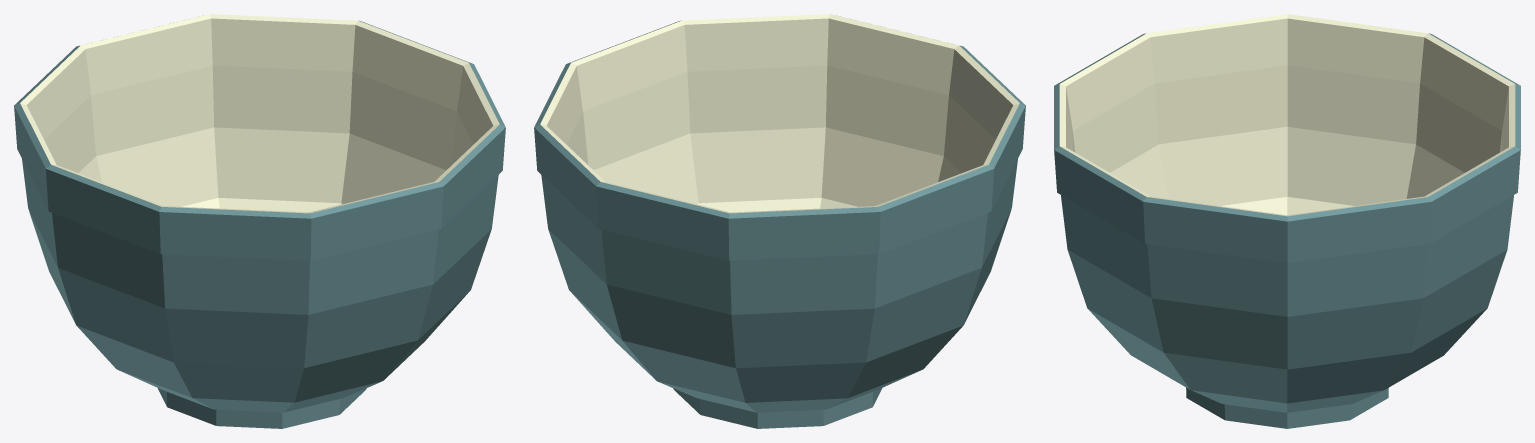
File: Blue Bowl.fbx
3 renders of one model, left to right at view 1: azimuth 30°, elevation 25°; view 2: azimuth 150°, elevation 25°; view 3: azimuth 270°, elevation 25°, orthographic.
Parts seen in each view (by area): view 1: bowl; view 2: bowl; view 3: bowl.
Boxes of the visible parts, bbox=[...] form: bowl: bbox=[14, 14, 505, 428]; bowl: bbox=[534, 14, 1025, 428]; bowl: bbox=[1054, 14, 1520, 428].
Size of the model in its own units: 230 by 139 by 218.
